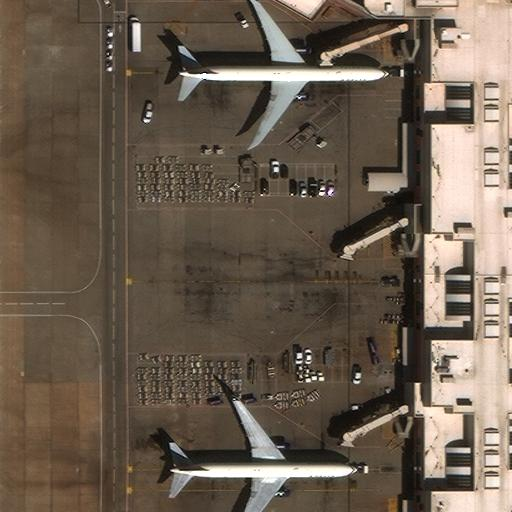Large Civil Transport: (178, 1, 389, 144), (170, 395, 357, 512)
